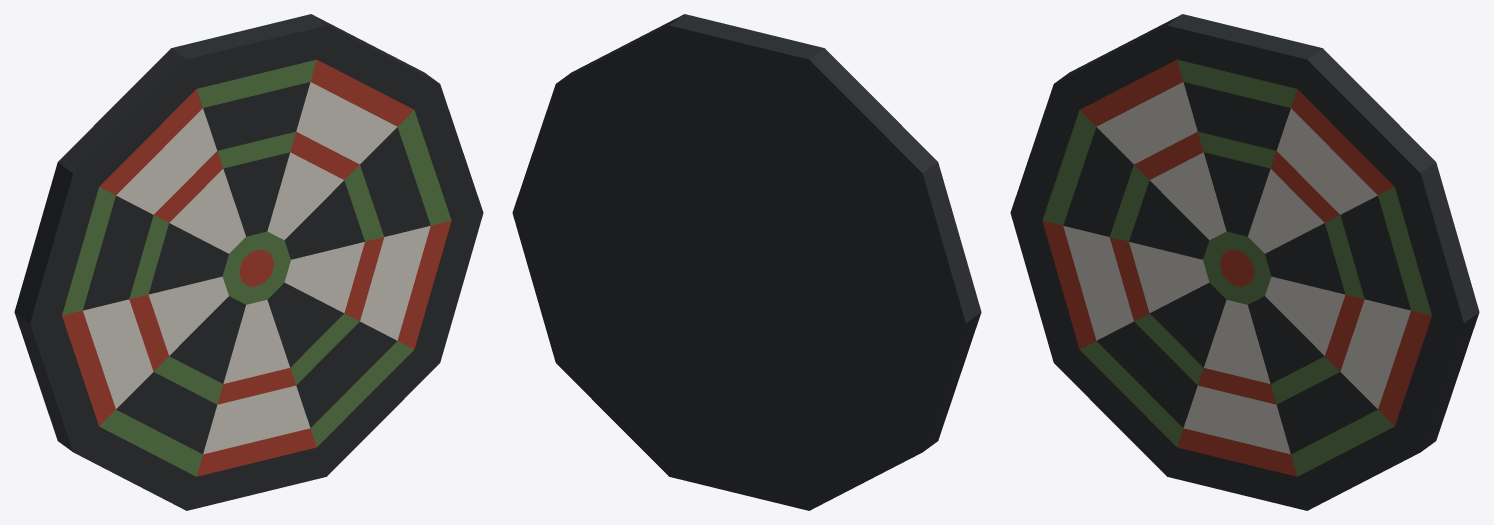
Rendered from SM_Prop_DartBoard_01.fbx.
The picture shows the model from 3 angles, left to right: view 1: azimuth 30°, elevation 25°; view 2: azimuth 150°, elevation 25°; view 3: azimuth 330°, elevation 25°; orthographic projection.
Visible parts, largest first — view 1: SM_Prop_DartBoard_01; view 2: SM_Prop_DartBoard_01; view 3: SM_Prop_DartBoard_01.
Boxes of the visible parts, x1,y1,x2,y2 form: SM_Prop_DartBoard_01: (14, 14, 483, 510); SM_Prop_DartBoard_01: (512, 14, 981, 510); SM_Prop_DartBoard_01: (1010, 14, 1479, 510).
Bounding box in the file's own units: 71.37 × 67.88 × 4.25.
